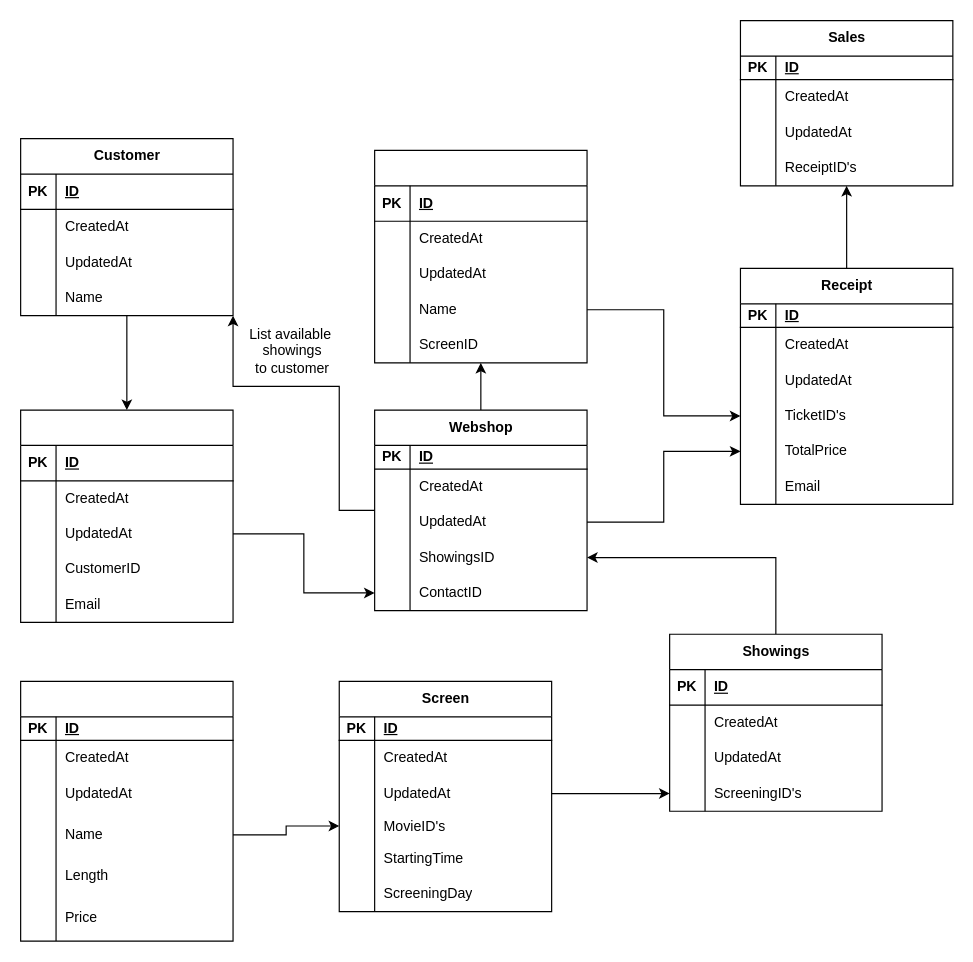
The diagram is 973 pixels wide and 962 high, and some of its shapes have lost their labels. Each missing label, with the box of its shape:
Contact: (19, 409, 233, 622)
Movie: (19, 680, 233, 941)
Ticket: (373, 149, 587, 363)
